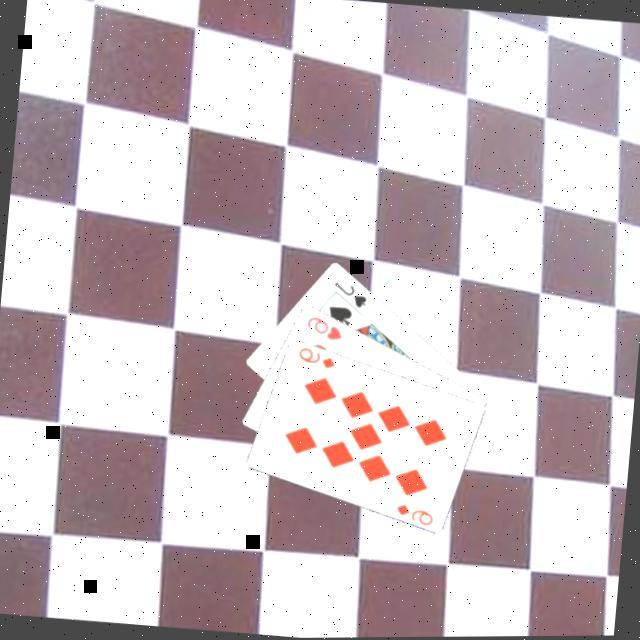6H: (304, 313, 348, 345)
9D: (296, 344, 341, 374), (393, 500, 438, 529)
JS: (331, 279, 373, 312)
